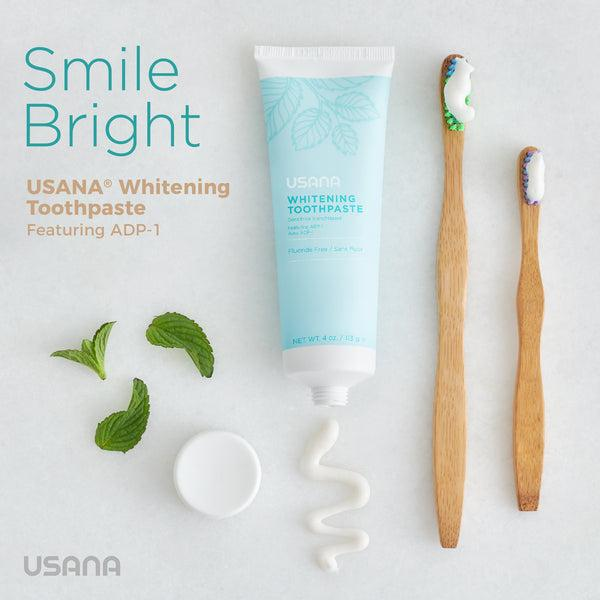toothpaste: (232, 28, 399, 414)
